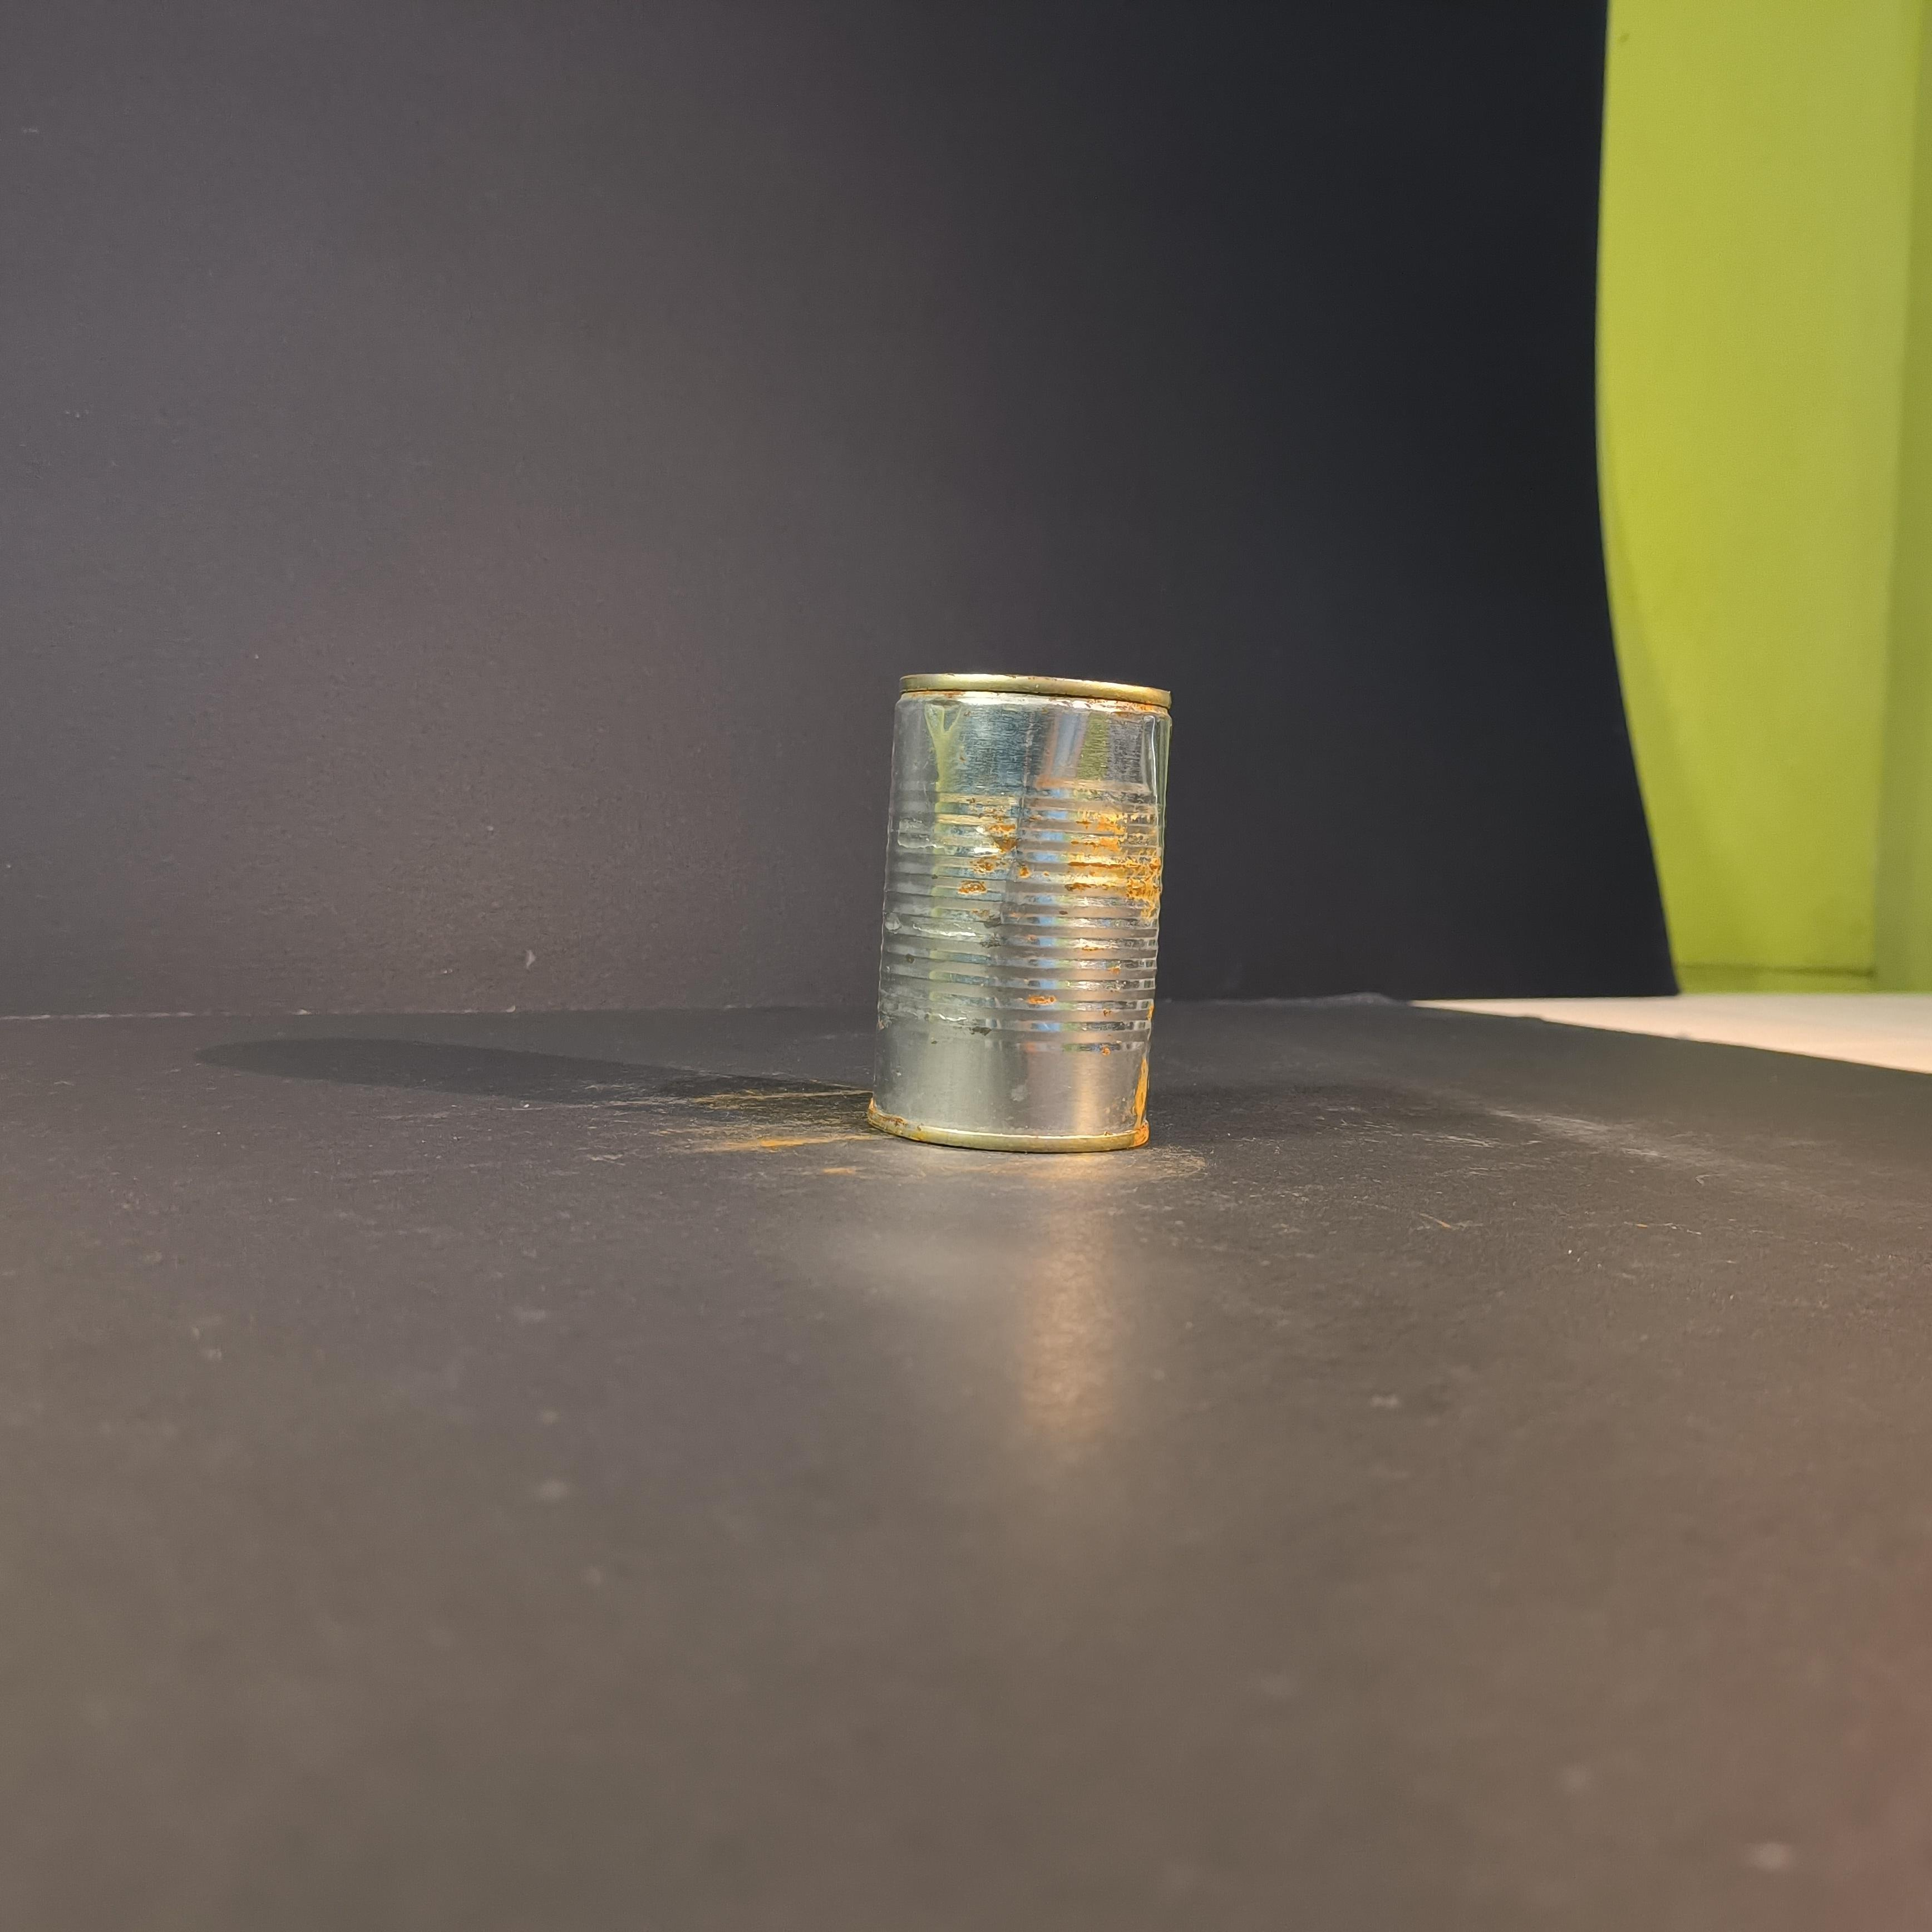Rusted: (860, 651, 1191, 1161)
